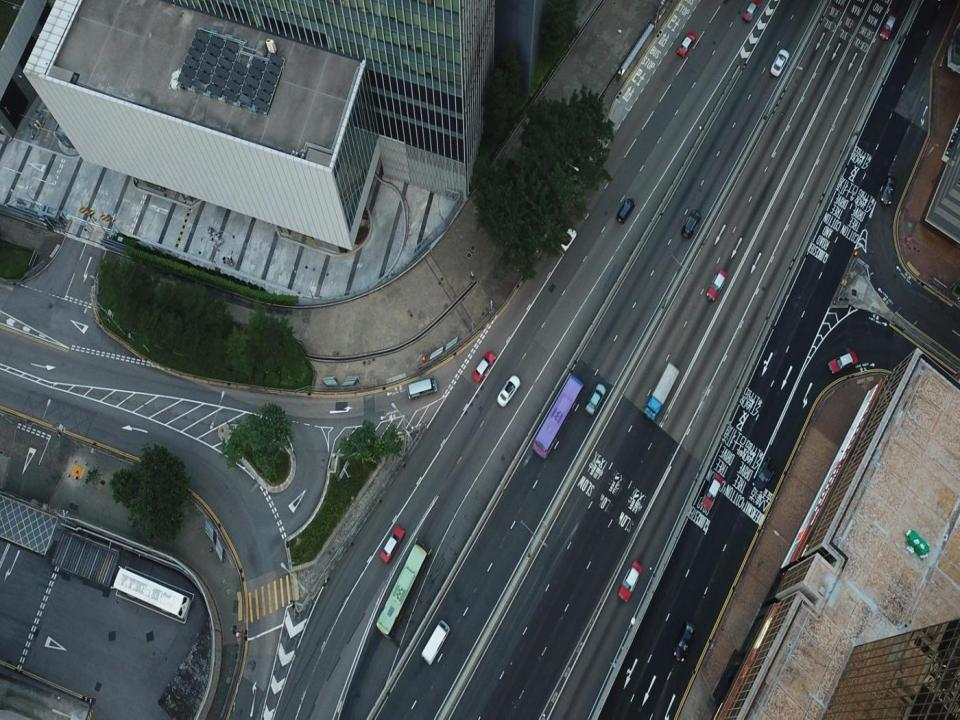bus: (376, 536, 429, 638), (110, 564, 191, 619), (533, 372, 583, 458)
car: (617, 561, 642, 603), (380, 525, 404, 563), (674, 620, 695, 662), (704, 268, 728, 303), (753, 455, 775, 493), (497, 375, 521, 409), (584, 382, 606, 417), (827, 350, 858, 374), (702, 475, 722, 511), (473, 351, 495, 382), (555, 228, 577, 257), (880, 11, 898, 41), (682, 210, 700, 238), (771, 48, 789, 76), (677, 31, 695, 58), (880, 176, 896, 206), (616, 198, 634, 224), (742, 2, 760, 22)
truck: (644, 362, 679, 420)
van: (422, 620, 449, 664), (407, 378, 438, 400)
